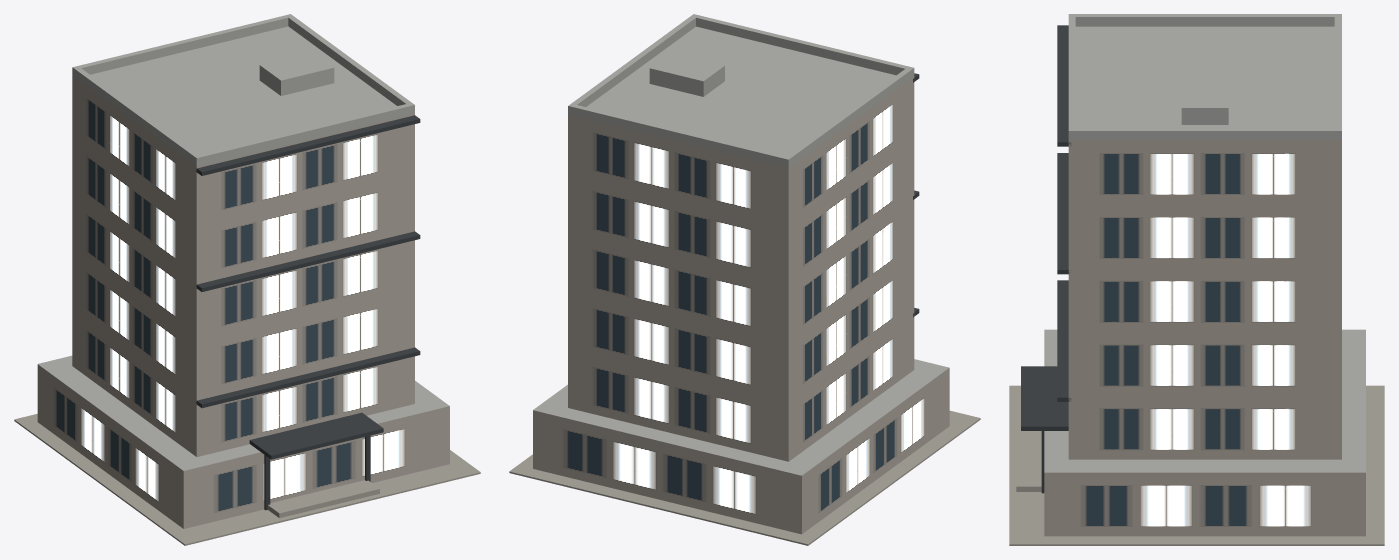
Rendered from rh-atlas.glb.
3 renders of one model, left to right at view 1: azimuth 30°, elevation 25°; view 2: azimuth 150°, elevation 25°; view 3: azimuth 270°, elevation 25°, orthographic. The views are drawn at different scales.
Parts seen in each view (by area): view 1: atlas; view 2: atlas; view 3: atlas.
Boxes of the visible parts, box(x1,y1,x2,y2) form: atlas: box(14, 14, 480, 545); atlas: box(509, 14, 980, 545); atlas: box(1009, 14, 1384, 545).
Size of the model in its own units: 16 by 18.88 by 16.
Materials: 1 (1 with a texture image).
